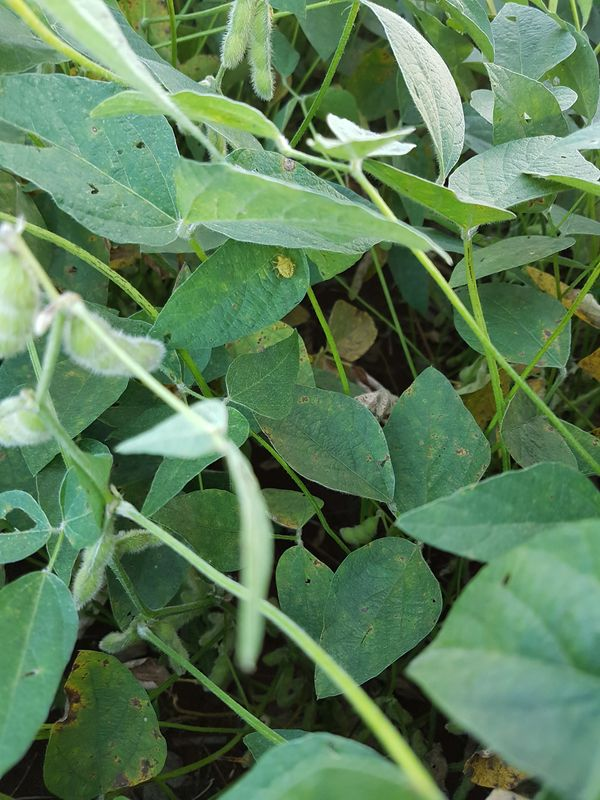Euschistus_heros_ninfa: (265, 248, 306, 285)
